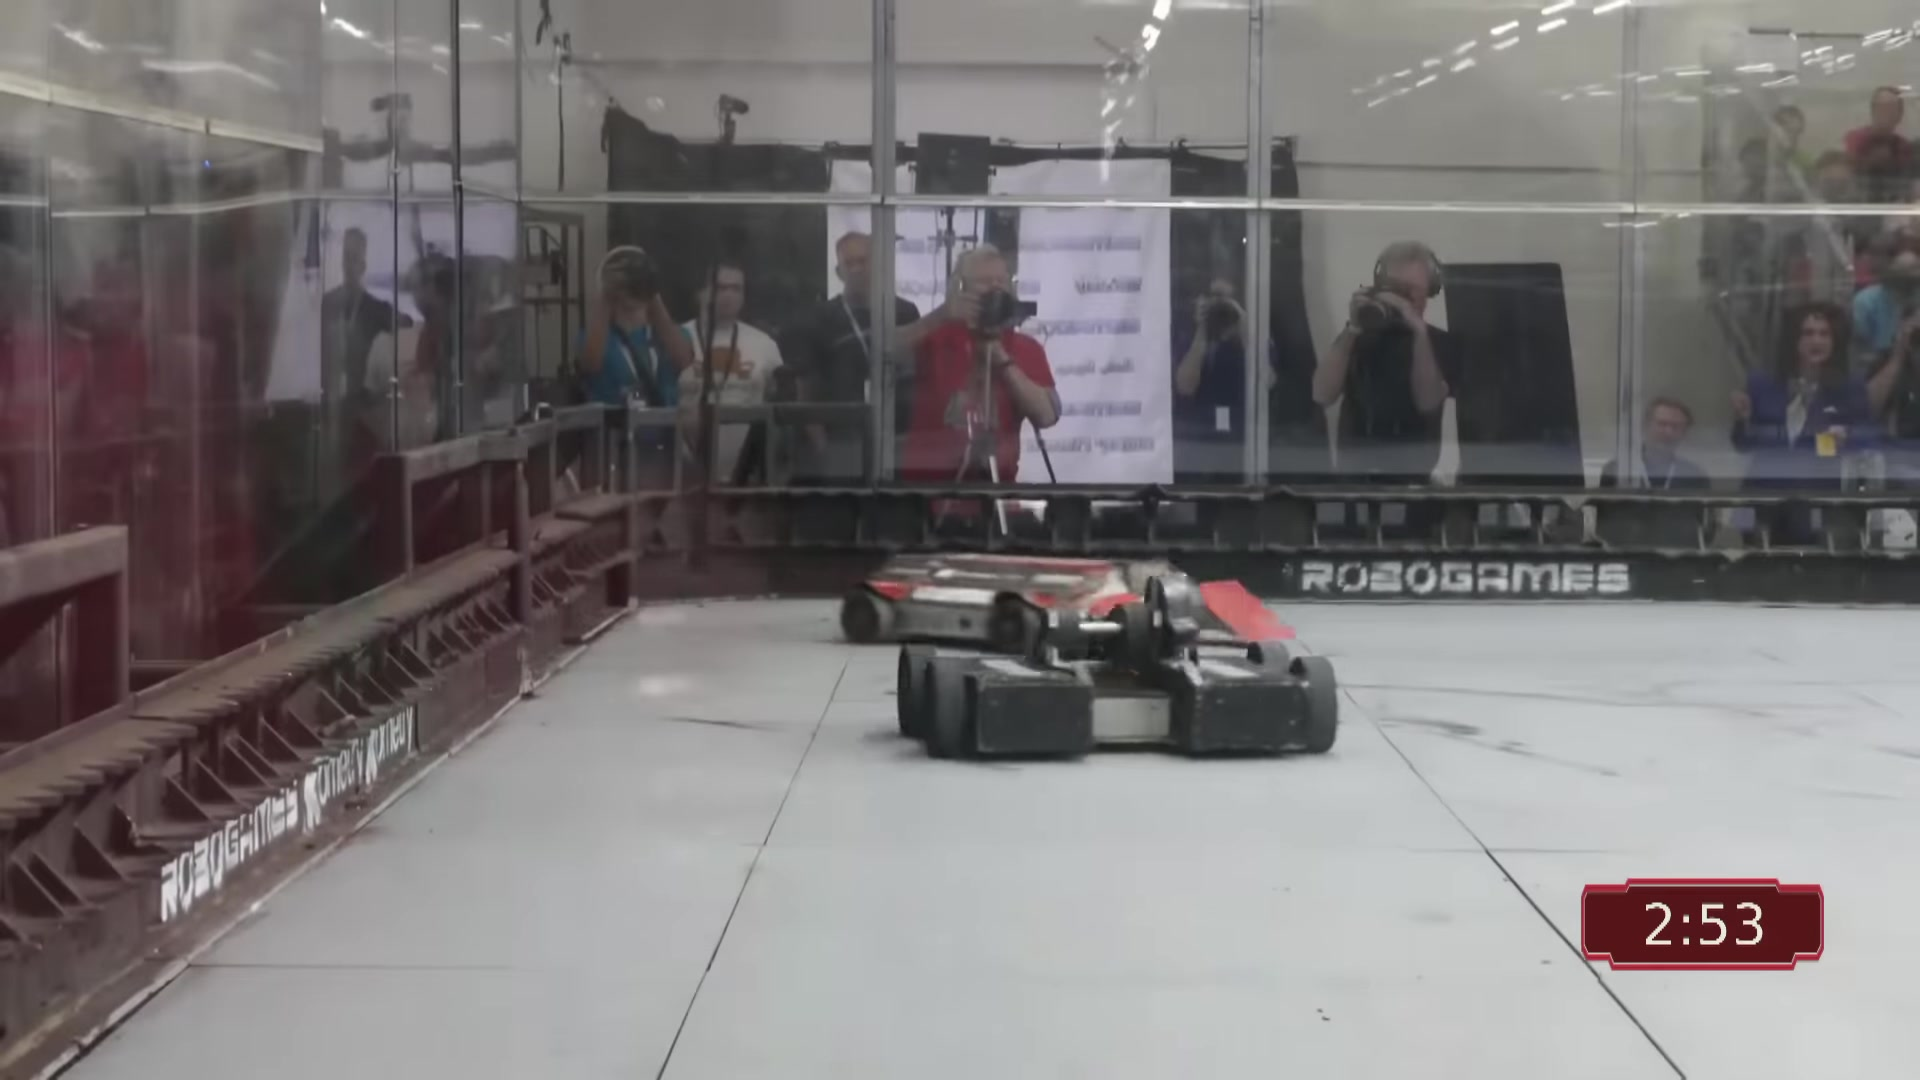combatbot: (898, 578, 1340, 766), (843, 547, 1292, 646)
